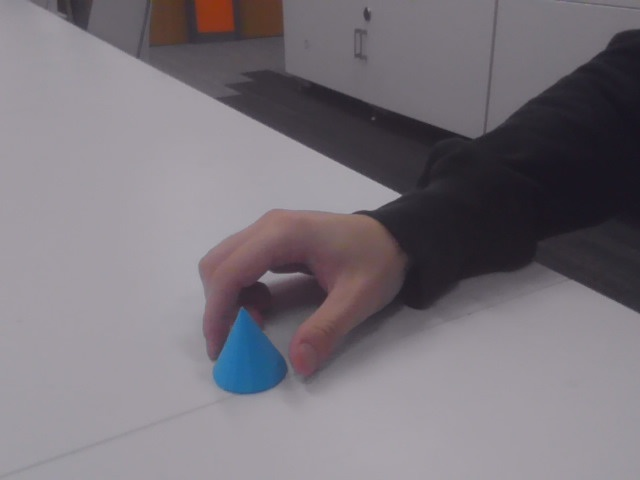cone: (212, 306, 289, 394)
